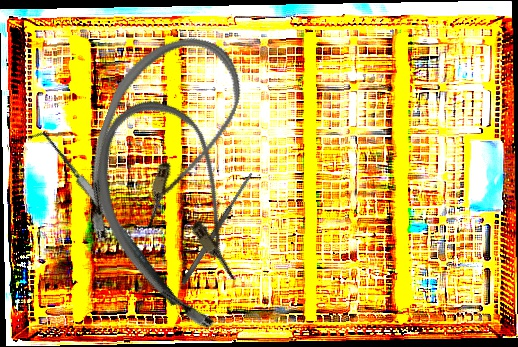Cannula: (63, 82, 287, 347), (65, 17, 255, 269)
Spatula Surgical: (25, 119, 182, 319), (179, 171, 256, 286)
